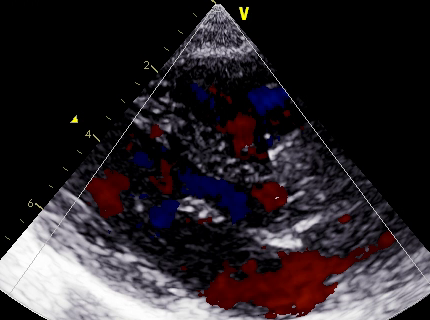AR: (237, 179, 299, 232)
